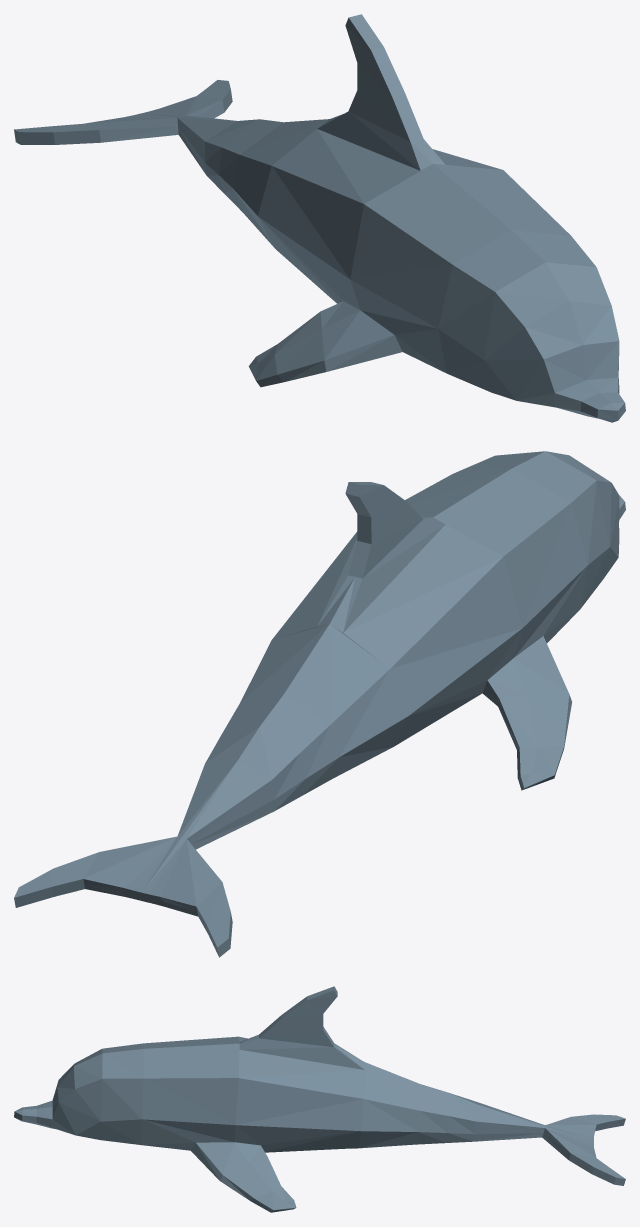
Rendered from dolphin.glb.
3 renders of one model, top to bottom at view 1: azimuth 30°, elevation 25°; view 2: azimuth 150°, elevation 25°; view 3: azimuth 270°, elevation 25°, orthographic. The views are drawn at different scales.
Parts seen in each view (by area): view 1: Dolphin.obj; view 2: Dolphin.obj; view 3: Dolphin.obj.
Part boxes in pixels (x1,y1,x2,y2): Dolphin.obj: (14, 14, 625, 422); Dolphin.obj: (14, 451, 625, 957); Dolphin.obj: (14, 986, 625, 1212).
Size of the model in its own units: 0.685 by 0.6567 by 2.
